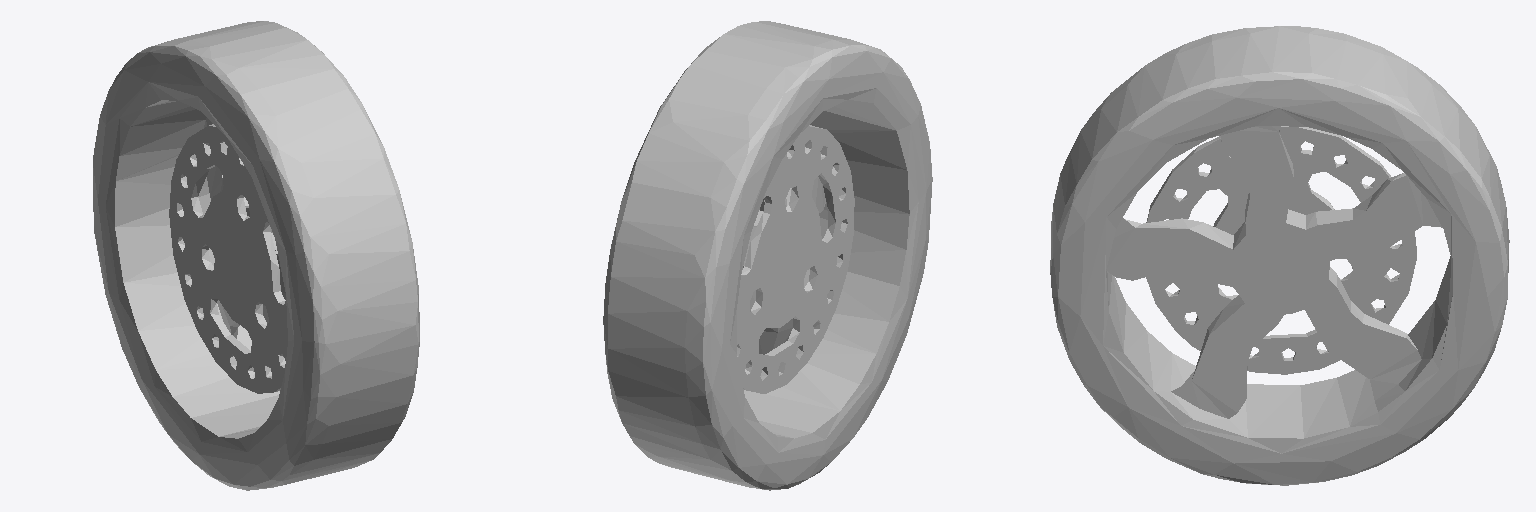
Rendered from wheel_new.obj.
3 views of the same model, side by side, from view 1: azimuth 30°, elevation 25°; view 2: azimuth 150°, elevation 25°; view 3: azimuth 270°, elevation 25° (orthographic).
Parts seen in each view (by area): view 1: wheel; view 2: wheel; view 3: wheel.
Boxes of the visible parts, x1=… form: wheel: x1=93, y1=21, x2=419, y2=490; wheel: x1=603, y1=21, x2=932, y2=490; wheel: x1=1050, y1=26, x2=1509, y2=485.
Bounding box in the file's own units: 0.0618 × 0.2176 × 0.2177.